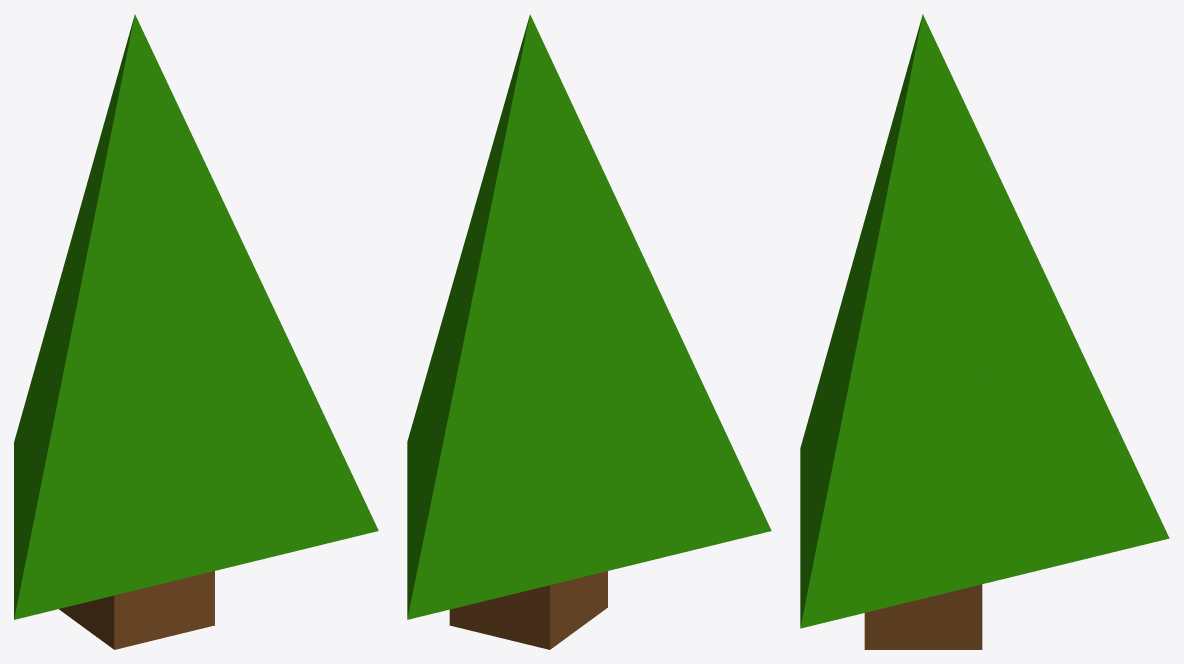
Rendered from TreeLOD4.fbx.
3 views of the same model, side by side, from view 1: azimuth 30°, elevation 25°; view 2: azimuth 150°, elevation 25°; view 3: azimuth 270°, elevation 25° (orthographic).
Parts seen in each view (by area): view 1: Cube; view 2: Cube; view 3: Cube.
Boxes of the visible parts, x1,y1,x2,y2 form: Cube: (14,14,378,649); Cube: (407,14,771,649); Cube: (800,14,1169,649).
Size of the model in its own units: 521 by 823 by 451.
